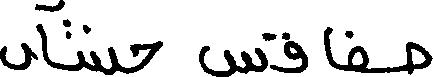X: (199, 28, 266, 76), (77, 20, 117, 76), (131, 36, 162, 76), (0, 38, 34, 74), (285, 27, 307, 76), (407, 37, 432, 76), (349, 26, 366, 76), (37, 0, 47, 68), (326, 22, 333, 71)
